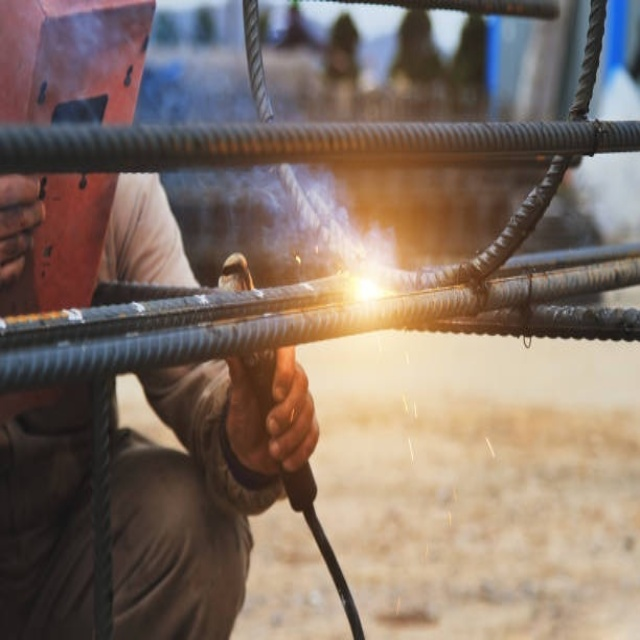Sin_guantes: (222, 321, 317, 485), (0, 173, 47, 292)
